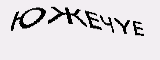Е: (83, 9, 102, 32), (131, 19, 147, 37)
Ж: (46, 5, 87, 27)
Ч: (99, 13, 116, 35)
Ю: (8, 5, 46, 32)
Ү: (112, 14, 132, 35)
